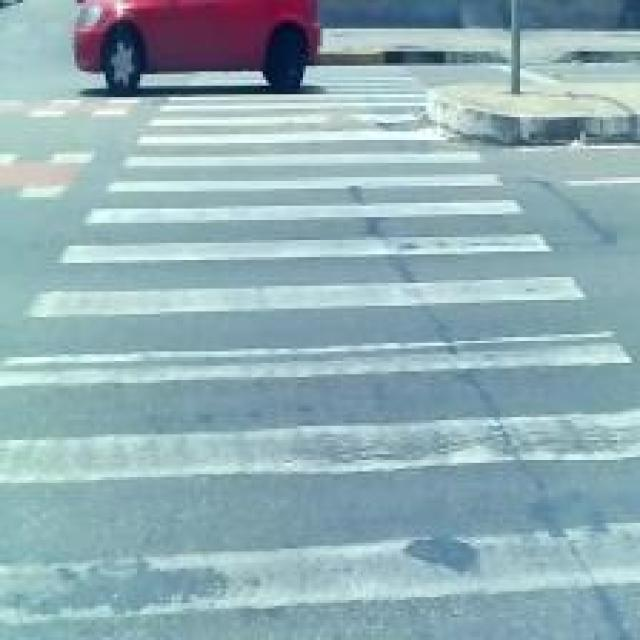crosswalk: (6, 56, 640, 626)
